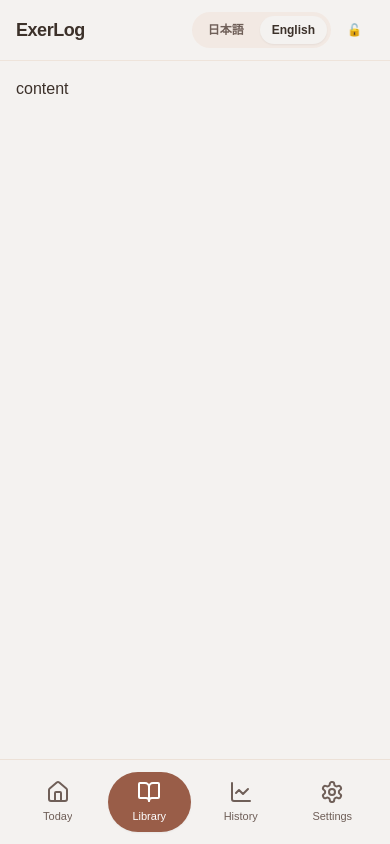
Scenario: renders shell layout with utility classes and accessible language radios
expect the element named "language" is shown: met, box [192,12,331,48]
expect the radio button labelled "English" is checked: met, box [260,16,327,44]
Click the radio button labelled "日本語".
click(226, 30)  # box [208,23,244,37]
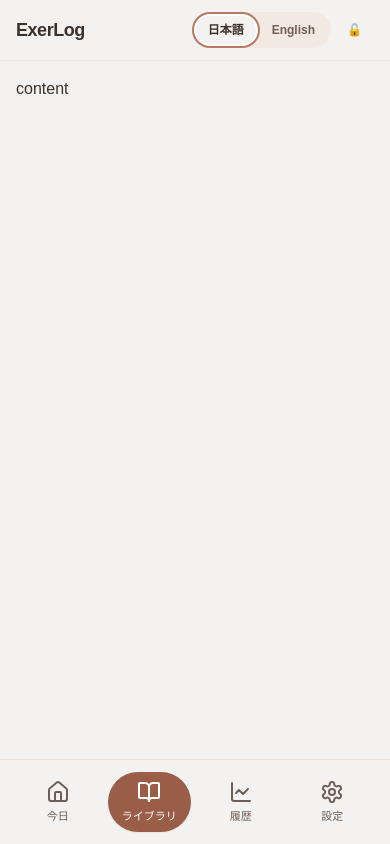
expect the radio button labelled "日本語" is checked: met, box [196,16,256,44]
expect the radio button labelled "English" is not checked: met, box [272,23,315,37]
